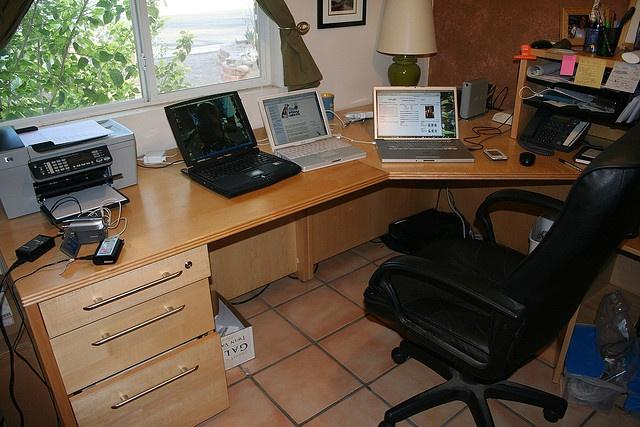Kursi: (362, 127, 639, 426)
Meja: (0, 121, 388, 325)
Printer: (0, 116, 140, 222)
